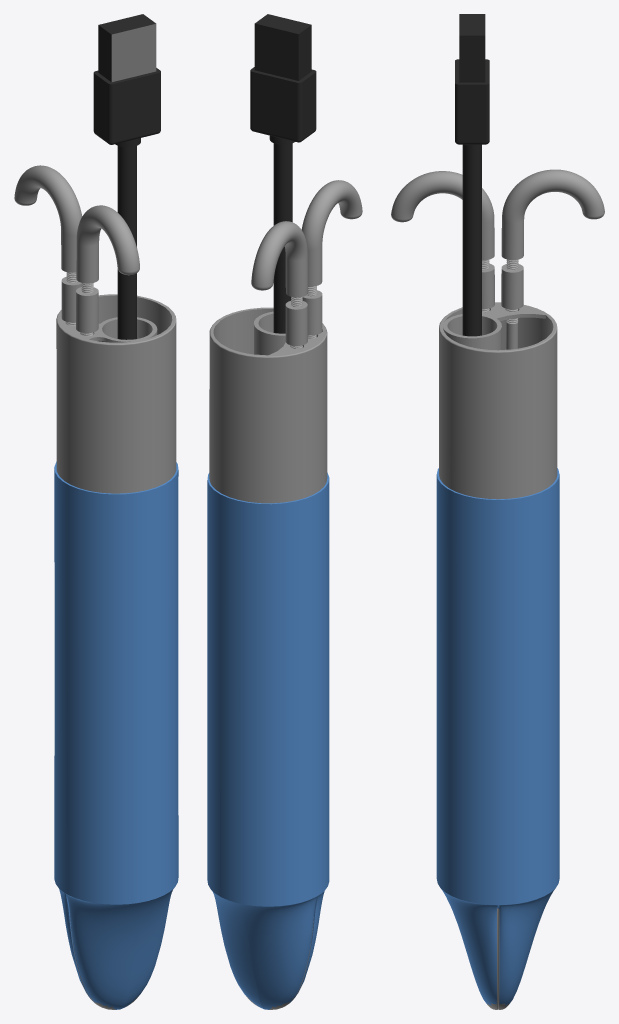
Rendered from sheath40mm.fbx.
3 views of the same model, side by side, from view 1: azimuth 30°, elevation 25°; view 2: azimuth 150°, elevation 25°; view 3: azimuth 270°, elevation 25° (orthographic).
Parts seen in each view (by area): view 1: Sheathv2, TUbe, Body1 (×5); view 2: Sheathv2, TUbe, Body1 (×5); view 3: Sheathv2, TUbe, Body1 (×6).
Part boxes in pixels (box(x1,y1,x2,y2)): Sheathv2: box(54, 461, 178, 1009); TUbe: box(56, 294, 176, 493); Body1 (×5): box(14, 14, 160, 339); Sheathv2: box(207, 472, 329, 1009); TUbe: box(209, 307, 327, 503); Body1 (×5): box(250, 14, 362, 345); Sheathv2: box(436, 468, 559, 1005); TUbe: box(439, 302, 557, 499); Body1 (×6): box(391, 14, 604, 349).
Size of the model in its own units: 30.2 by 267 by 52.62.
